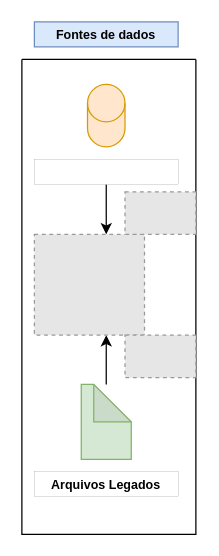
The diagram is 219 pixels wide and 556 high, and some of its shapes have lost their labels. Grey dashed boxes stand in for pictures. Each missing label, with the centre of its shape:
Sistema Transacional Legado: (106,171)
XLS/ CSV: (105,421)
